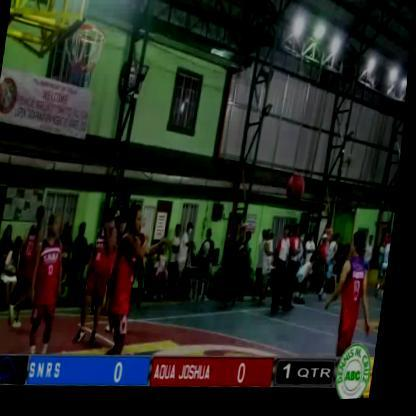basketball: (283, 166, 316, 219)
rim: (49, 3, 110, 100)
